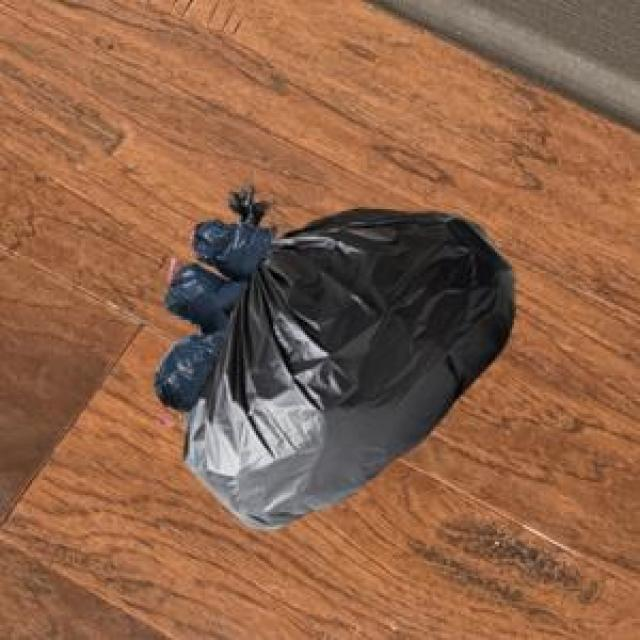Vinyl: (188, 221, 516, 532), (189, 211, 276, 281)
